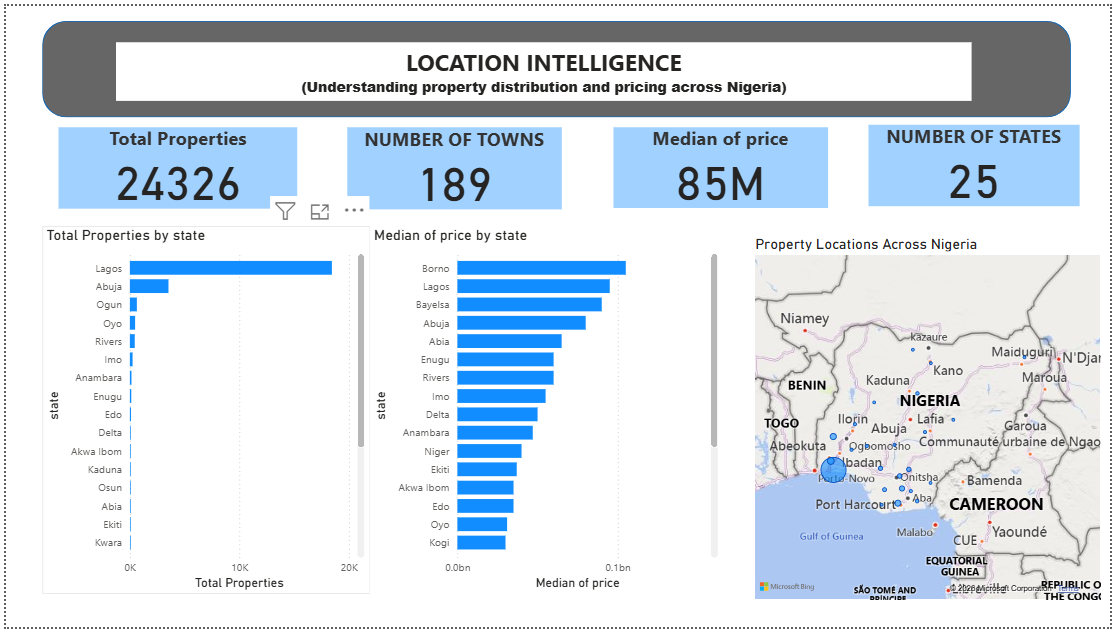

The dashboard page shown, as its layout file describes it:
{"tool":"powerbi","page":{"name":"Location Intelligence","canvas":[1280,720],"ordinal":2},"visuals":[{"type":"group","id":"g1","title":"Group 1","box":[42.5,17.5,1192.5,111.2],"z":0},{"type":"shape","box":[42.5,17.5,1192.5,111.7],"z":0,"group":"g1"},{"type":"cardVisual","fields":{"Data":["clean_nigeriarealestate_dataset.SUM TOWN"]},"box":[396.2,140,248.8,95],"z":1},{"type":"cardVisual","fields":{"Data":["clean_nigeriarealestate_dataset.SUM STATE"]},"box":[1000,137.5,244.4,94.4],"z":2},{"type":"cardVisual","fields":{"Data":["Median(clean_nigeriarealestate_dataset.price)"]},"box":[705,141.2,248.9,93.3],"z":3},{"type":"cardVisual","fields":{"Data":["clean_nigeriarealestate_dataset.Total Properties"]},"box":[61.2,140,277.1,94.3],"z":4},{"type":"clusteredBarChart","fields":{"Y":["clean_nigeriarealestate_dataset.Total Properties"],"Category":["clean_nigeriarealestate_dataset.state"]},"box":[42.5,255,378.8,427.5],"z":5},{"type":"clusteredBarChart","fields":{"Y":["Median(clean_nigeriarealestate_dataset.price)"],"Category":["clean_nigeriarealestate_dataset.state"]},"box":[421.2,255,408.8,427.5],"z":6},{"type":"map","title":"Property Locations Across Nigeria","fields":{"Category":["clean_nigeriarealestate_dataset.state"],"Size":["clean_nigeriarealestate_dataset.Total Properties"]},"box":[863.8,265,410,427.5],"z":7},{"type":"textbox","box":[127.3,42.2,992.2,68.2],"z":1000,"group":"g1"}]}

Visuals, with their boxes in screenshot pixels (x1, y1, x2, y2), scaled from the page's 1280x720 canvas onto the 1113x632 screenshot:
"Group 1" group: 37,15,1074,113
shape: 37,15,1074,113
cardVisual - clean_nigeriarealestate_dataset.SUM TOWN: 345,123,561,206
cardVisual - clean_nigeriarealestate_dataset.SUM STATE: 870,121,1082,204
cardVisual - Median(clean_nigeriarealestate_dataset.price): 613,124,829,206
cardVisual - clean_nigeriarealestate_dataset.Total Properties: 53,123,294,206
clusteredBarChart - clean_nigeriarealestate_dataset.Total Properties x clean_nigeriarealestate_dataset.state: 37,224,366,599
clusteredBarChart - Median(clean_nigeriarealestate_dataset.price) x clean_nigeriarealestate_dataset.state: 366,224,722,599
"Property Locations Across Nigeria" map: 751,233,1108,608
textbox: 111,37,973,97
